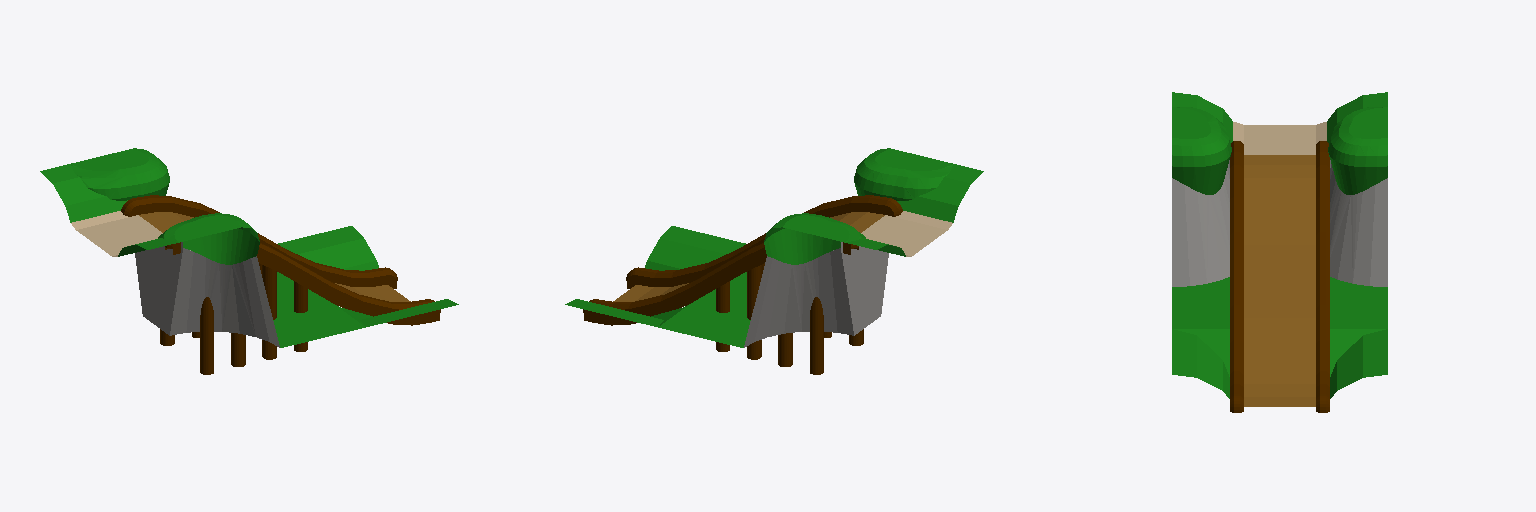
File: Track_Bridge_Cliff_Ramp_Flat_3x3.obj
3 renders of one model, left to right at view 1: azimuth 30°, elevation 25°; view 2: azimuth 150°, elevation 25°; view 3: azimuth 270°, elevation 25°, orthographic.
Parts seen in each view (by area): view 1: object13, object6, object11, object2, object12, object4; view 2: object13, object11, object6, object2, object9, object10; view 3: object13, object2, object11, object6.
Boxes of the visible parts, x1,y1,x2,y2 form: object13: [40, 148, 458, 347]; object6: [165, 242, 440, 325]; object11: [121, 195, 397, 288]; object2: [139, 212, 410, 301]; object12: [200, 297, 213, 374]; object4: [262, 265, 276, 359]; object13: [565, 148, 983, 347]; object11: [583, 242, 858, 325]; object6: [626, 195, 902, 288]; object2: [613, 212, 884, 301]; object9: [810, 297, 823, 374]; object10: [747, 265, 761, 359]; object13: [1172, 92, 1387, 398]; object2: [1244, 155, 1315, 406]; object11: [1316, 141, 1329, 412]; object6: [1230, 141, 1243, 412].
Size of the model in its own units: 5.2 by 2.6 by 3.